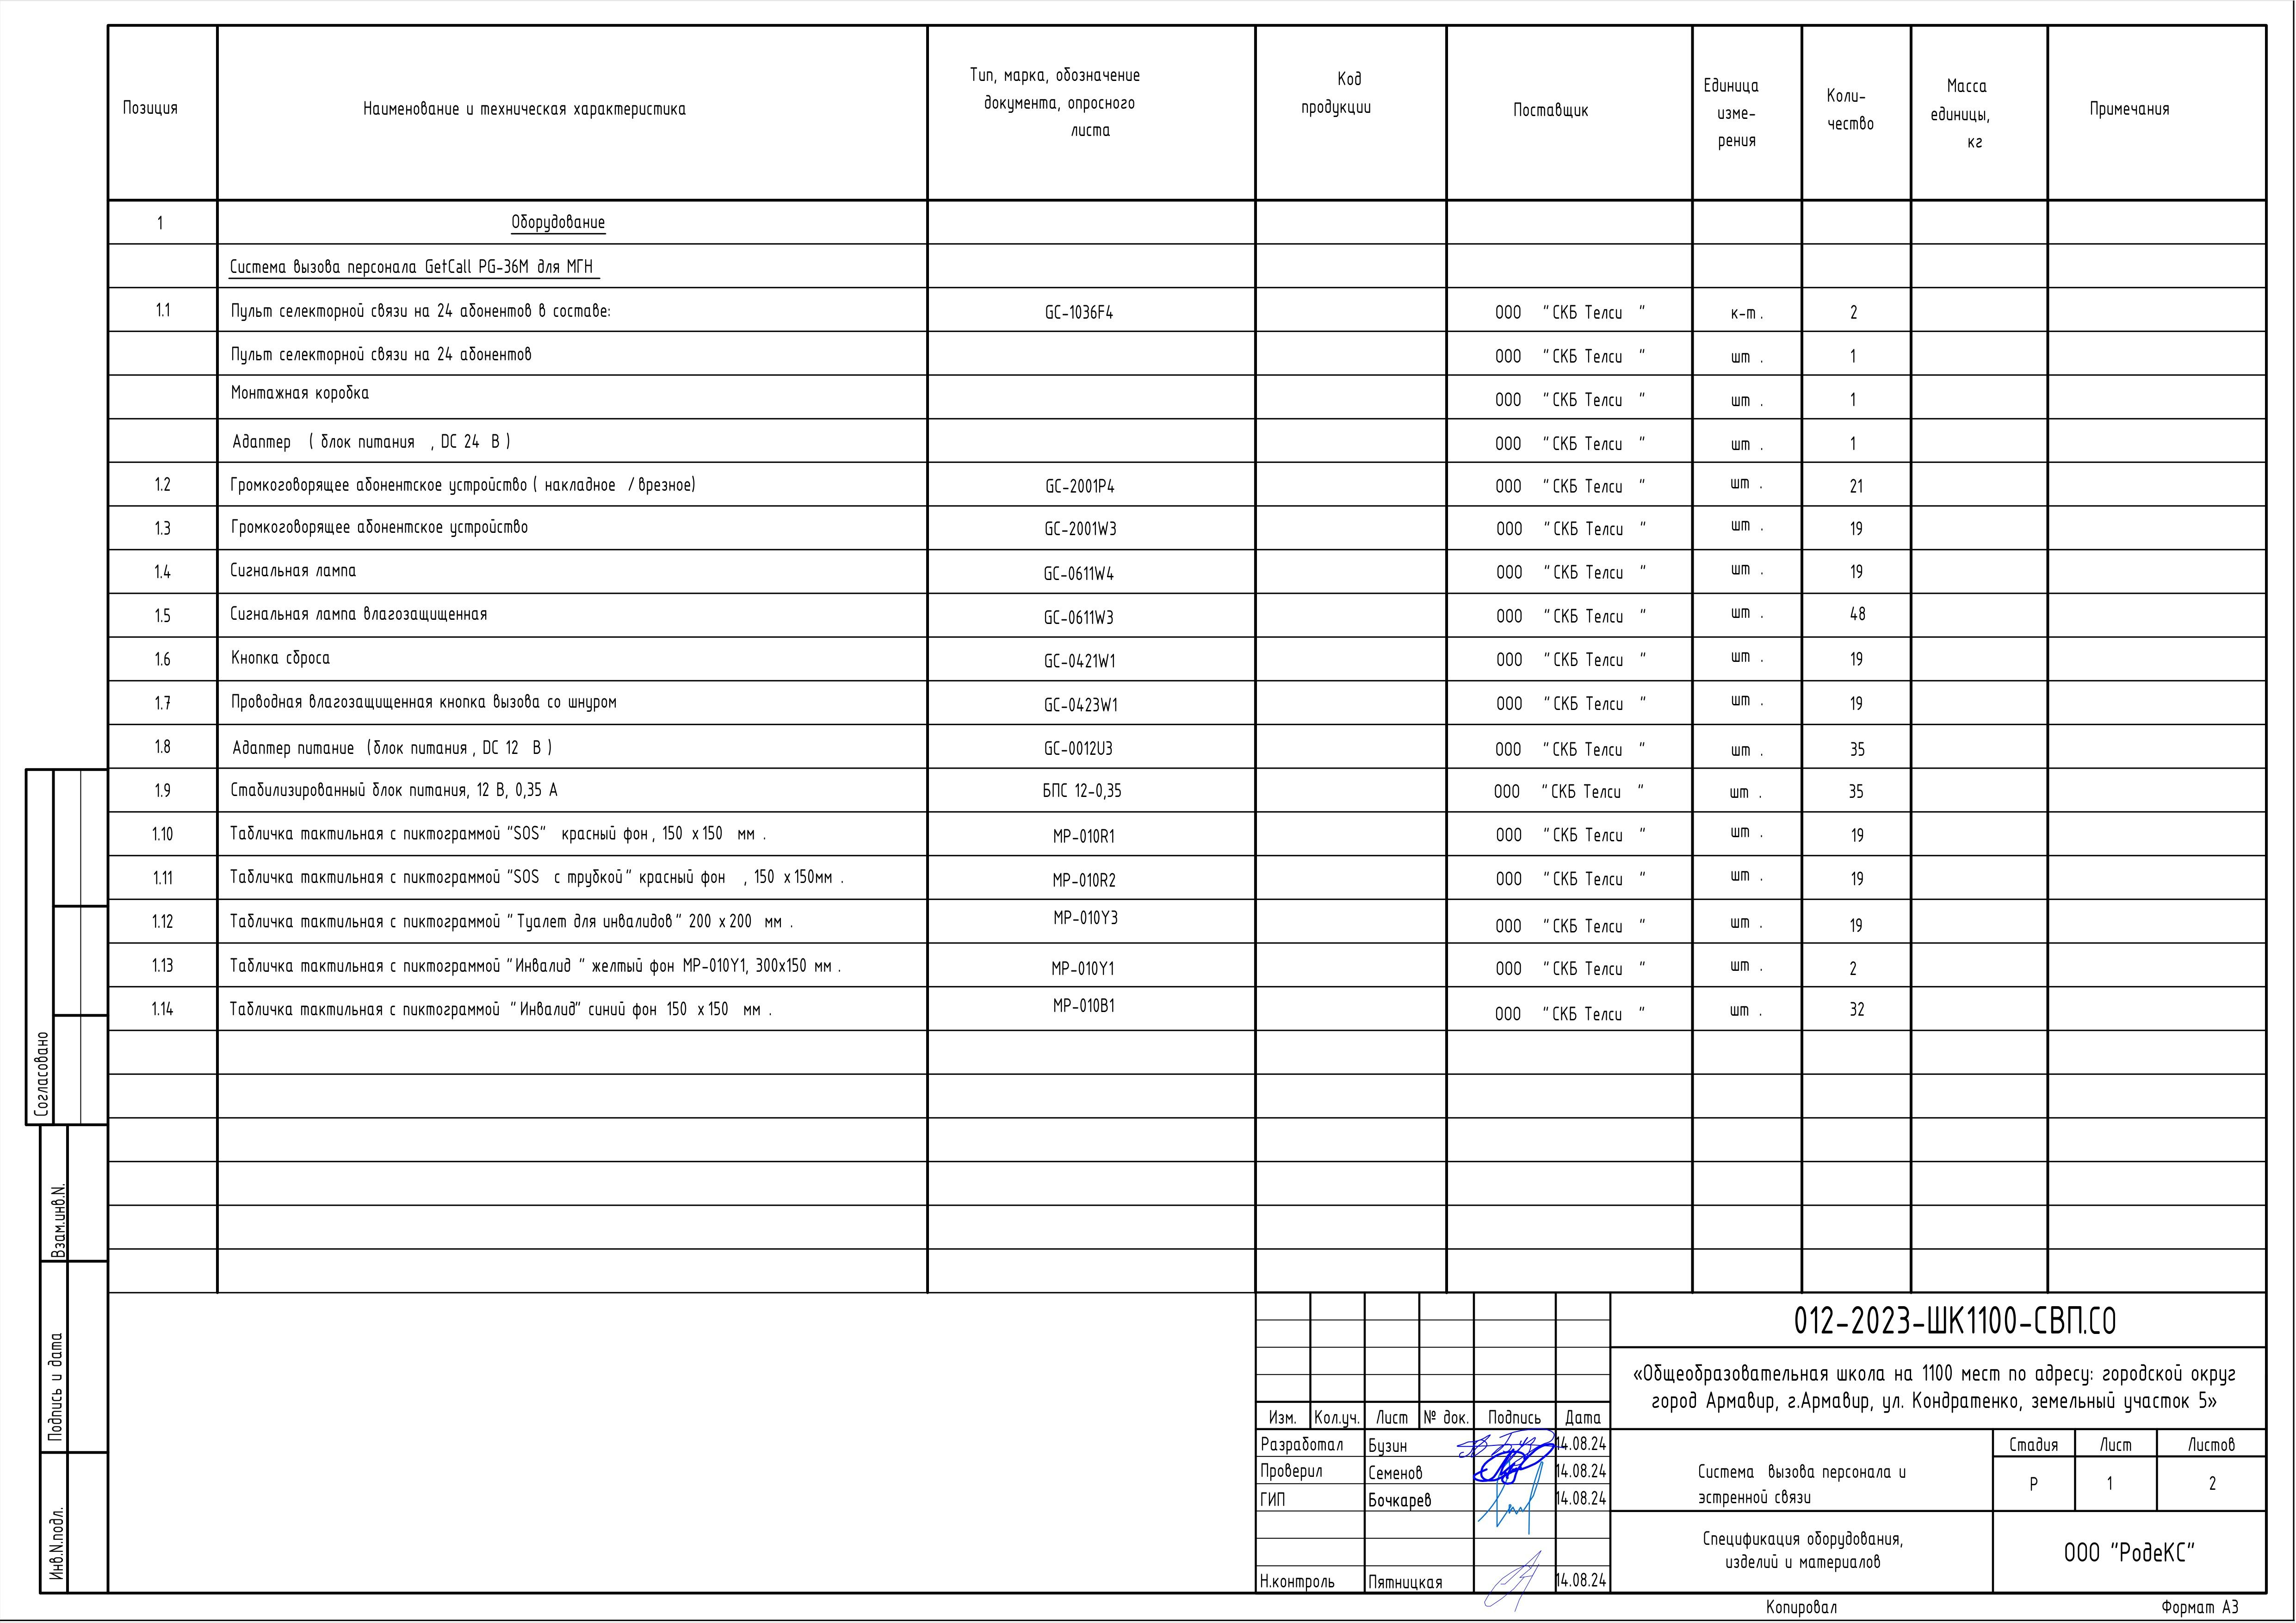Name of costs: (217, 200, 926, 1293)
Note: (928, 202, 1256, 1292)
Quantity: (1802, 201, 1911, 1291)
Unit of measurement: (1693, 200, 1802, 1291)
